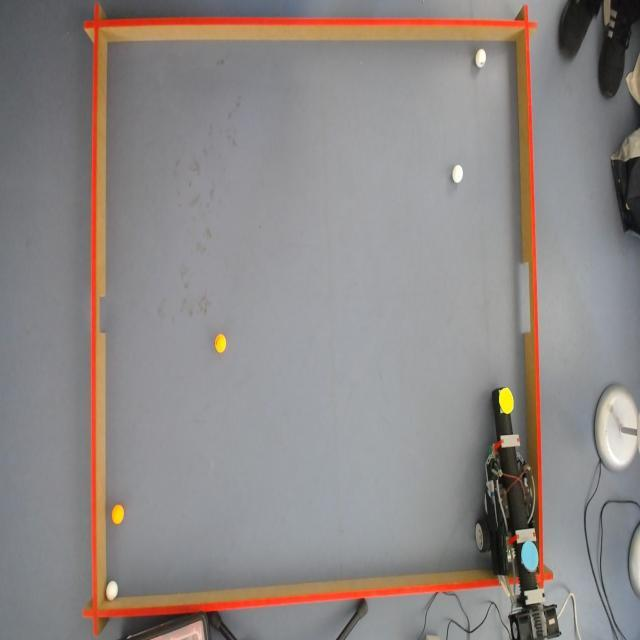orange: (216, 332, 230, 354), (111, 504, 126, 524)
robot: (474, 385, 564, 640)
robot-front: (497, 388, 515, 415)
robot-rear: (520, 540, 540, 574)
white: (106, 580, 120, 600), (475, 49, 489, 69), (452, 165, 464, 184)
